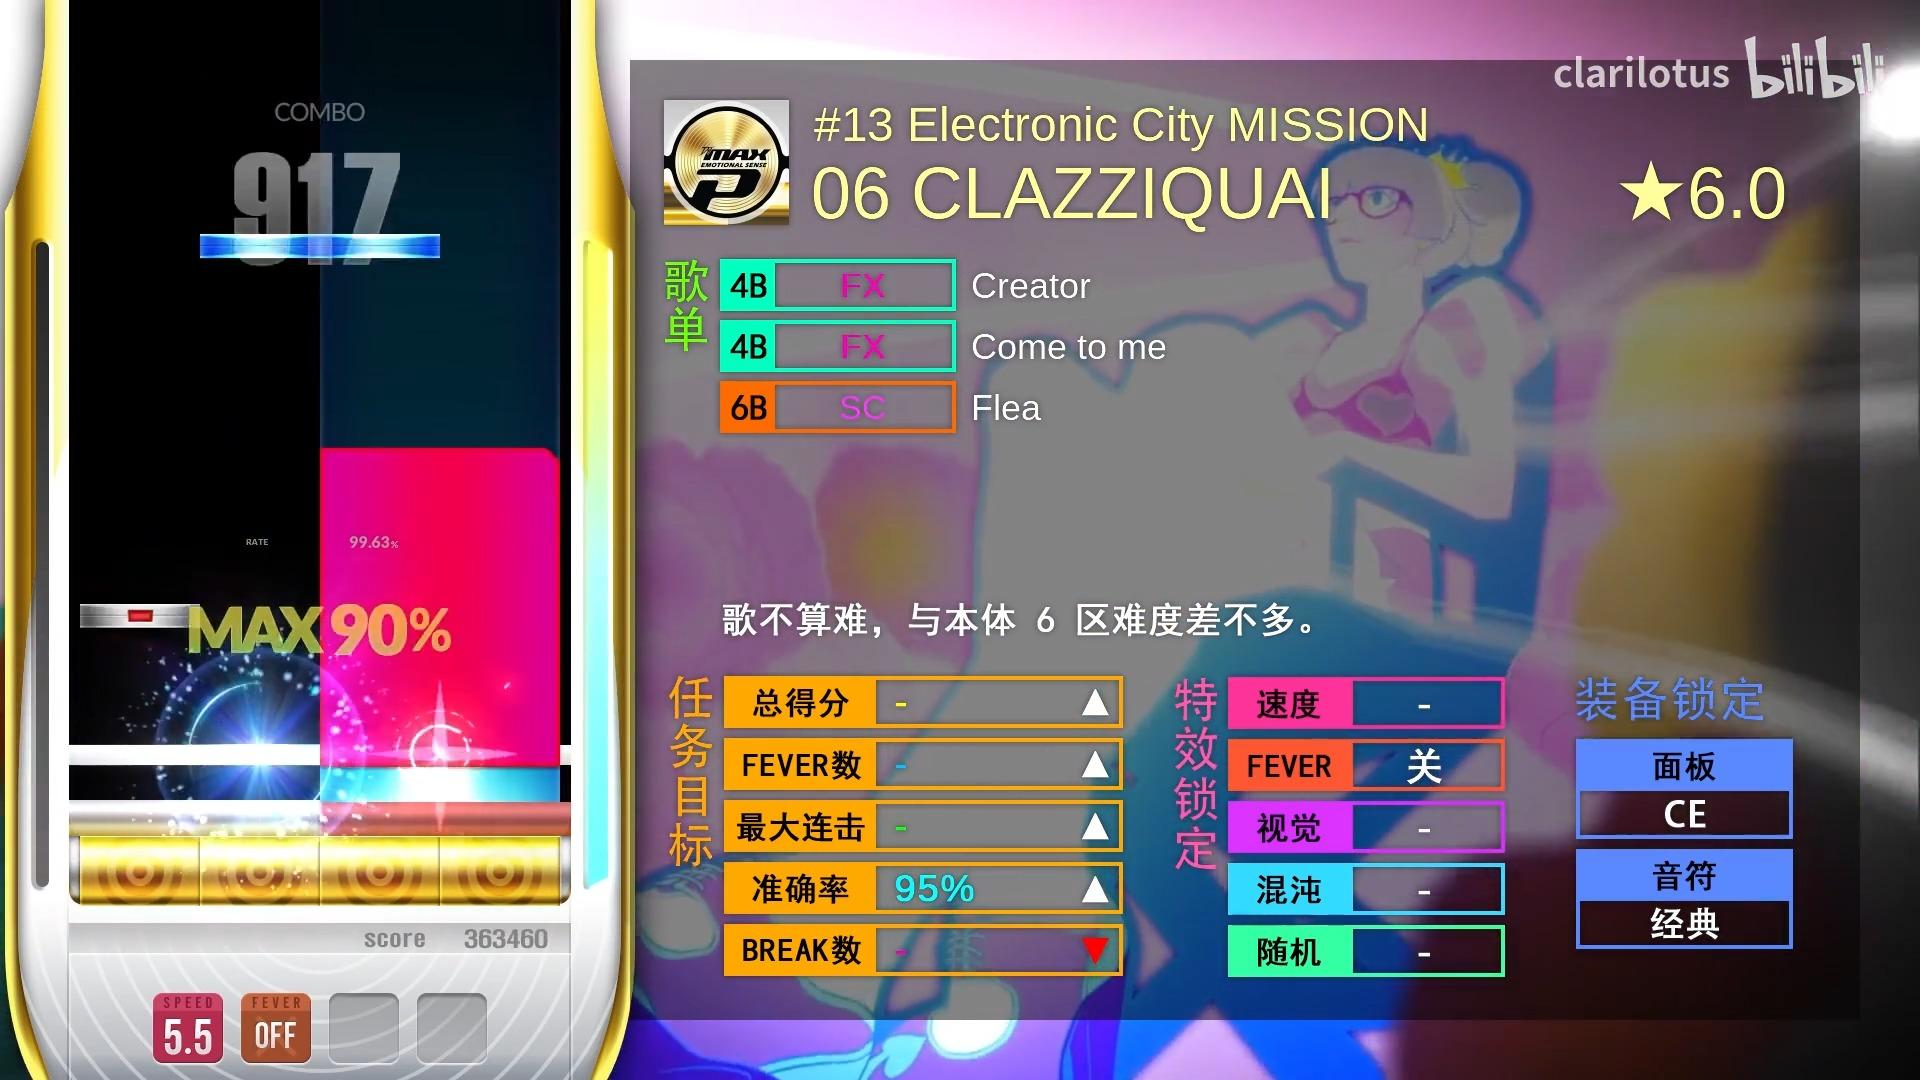note: (319, 447, 560, 479), (320, 232, 440, 260), (80, 603, 199, 629), (200, 233, 322, 258)
